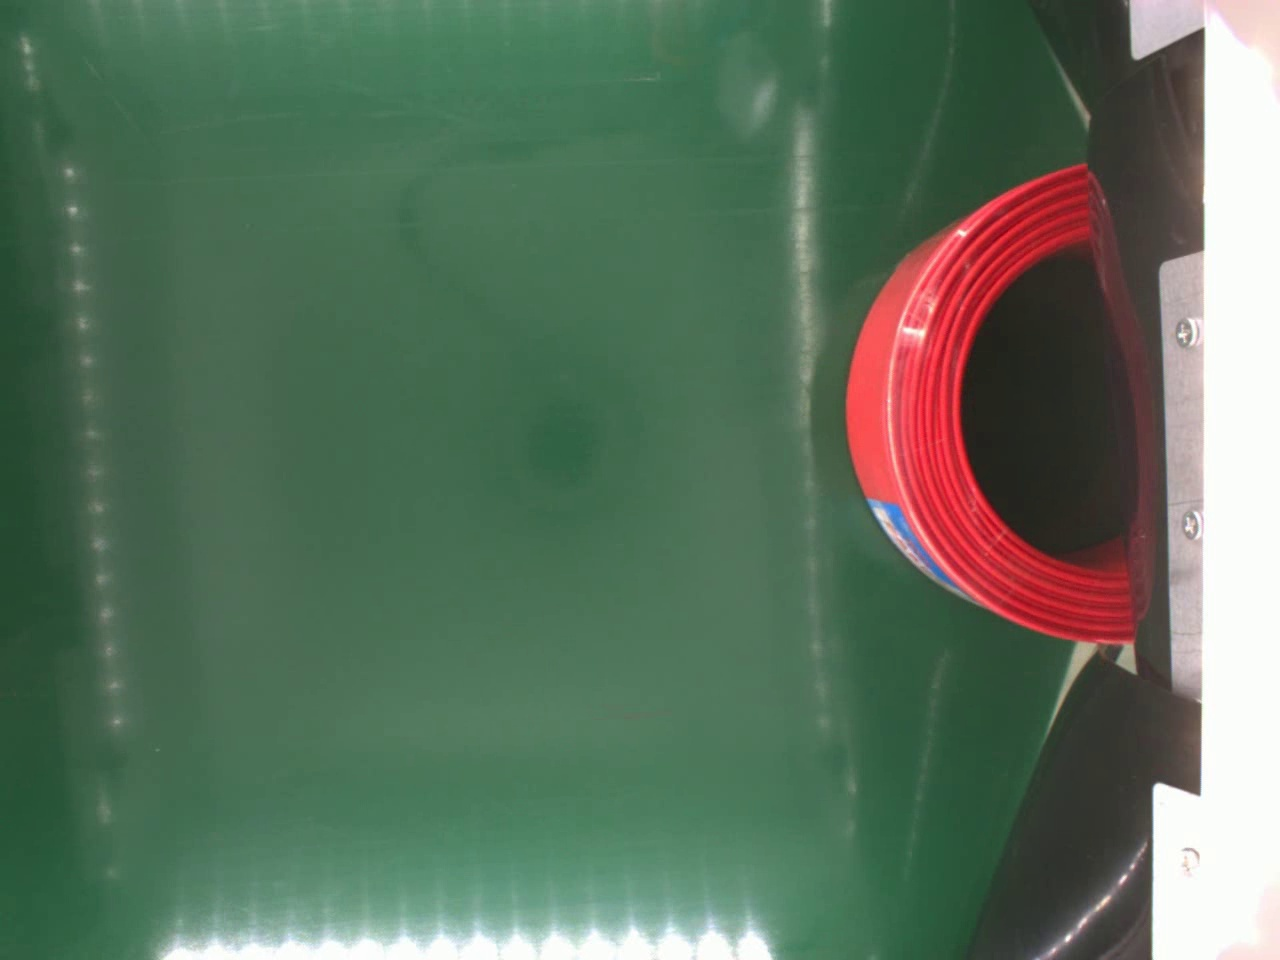red: (844, 159, 1137, 643)
